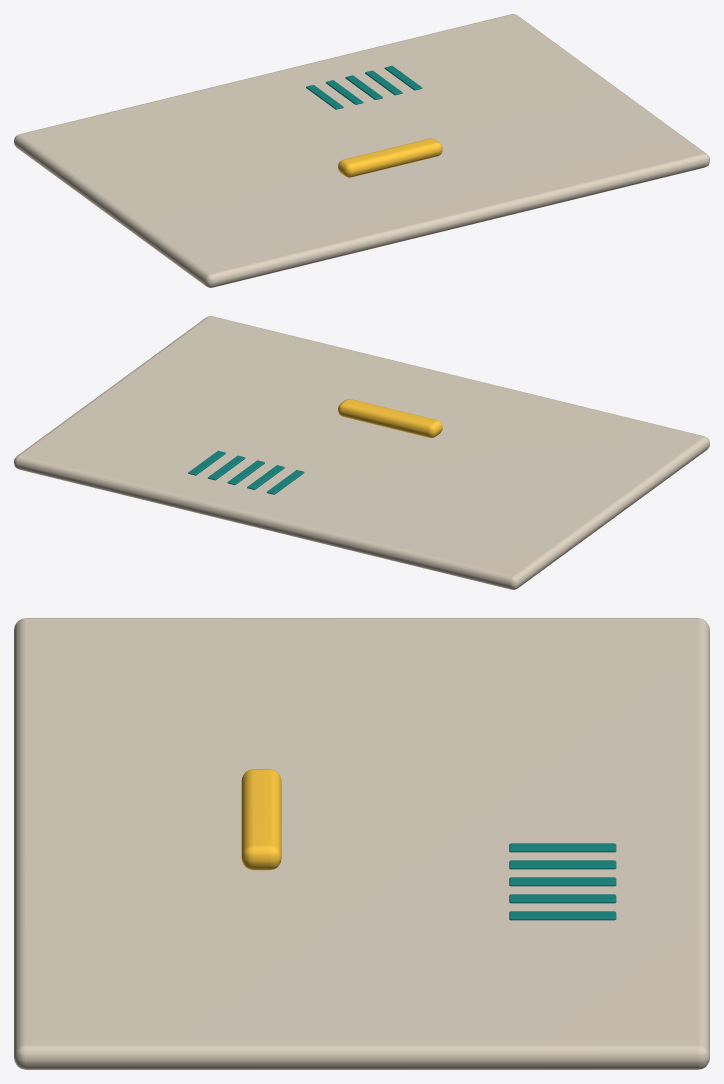
Rendered from TankLidRack.fbx.
3 views of the same model, one above another, from view 1: azimuth 30°, elevation 25°; view 2: azimuth 150°, elevation 25°; view 3: azimuth 270°, elevation 25° (orthographic). The views are drawn at different scales.
Visible parts, largest first — view 1: TankLidRack mesh; view 2: TankLidRack mesh; view 3: TankLidRack mesh.
Part boxes in pixels (<box>): TankLidRack mesh: <box>14,14,709,287</box>; TankLidRack mesh: <box>14,316,709,589</box>; TankLidRack mesh: <box>14,618,709,1069</box>.
Bounding box in the file's own units: 1.54 × 0.08 × 1.04.
